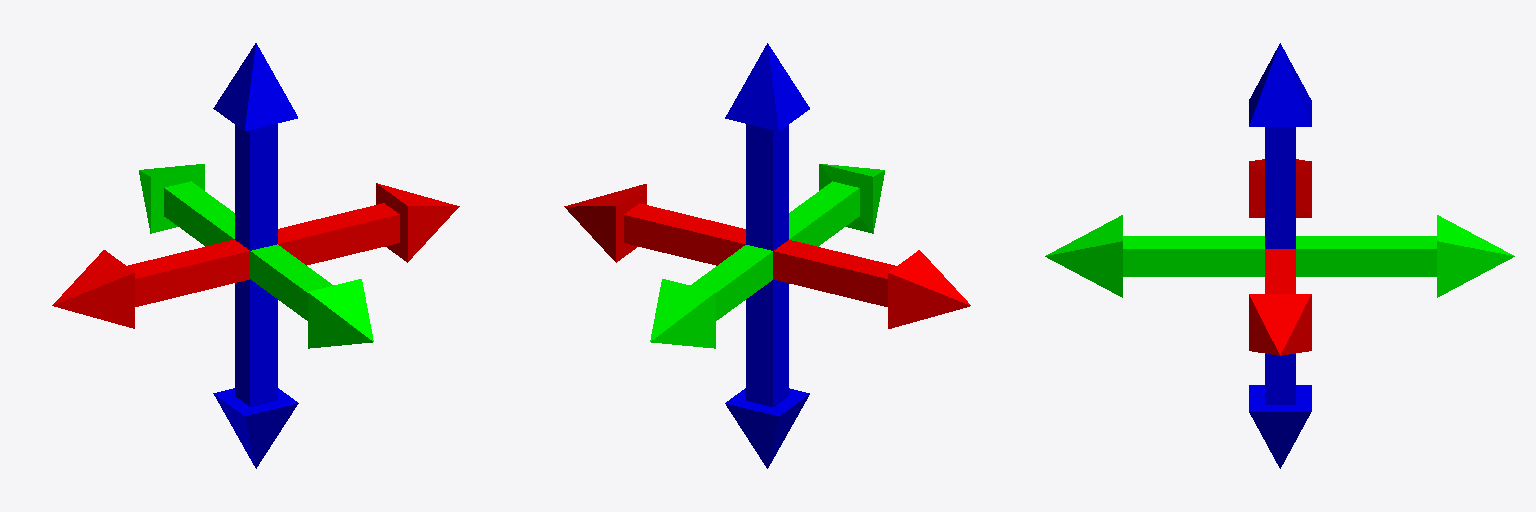
Rendered from WorldDirection.obj.
The picture shows the model from 3 angles: view 1: azimuth 30°, elevation 25°; view 2: azimuth 150°, elevation 25°; view 3: azimuth 270°, elevation 25°; orthographic projection.
Visible parts, largest first — view 1: WorldDirection_Cube.003; view 2: WorldDirection_Cube.003; view 3: WorldDirection_Cube.003.
Boxes of the visible parts, x1=… form: WorldDirection_Cube.003: x1=52, y1=43, x2=459, y2=468; WorldDirection_Cube.003: x1=564, y1=43, x2=970, y2=468; WorldDirection_Cube.003: x1=1045, y1=43, x2=1514, y2=468.
Bounding box in the file's own units: 6.01 × 6.01 × 6.01.